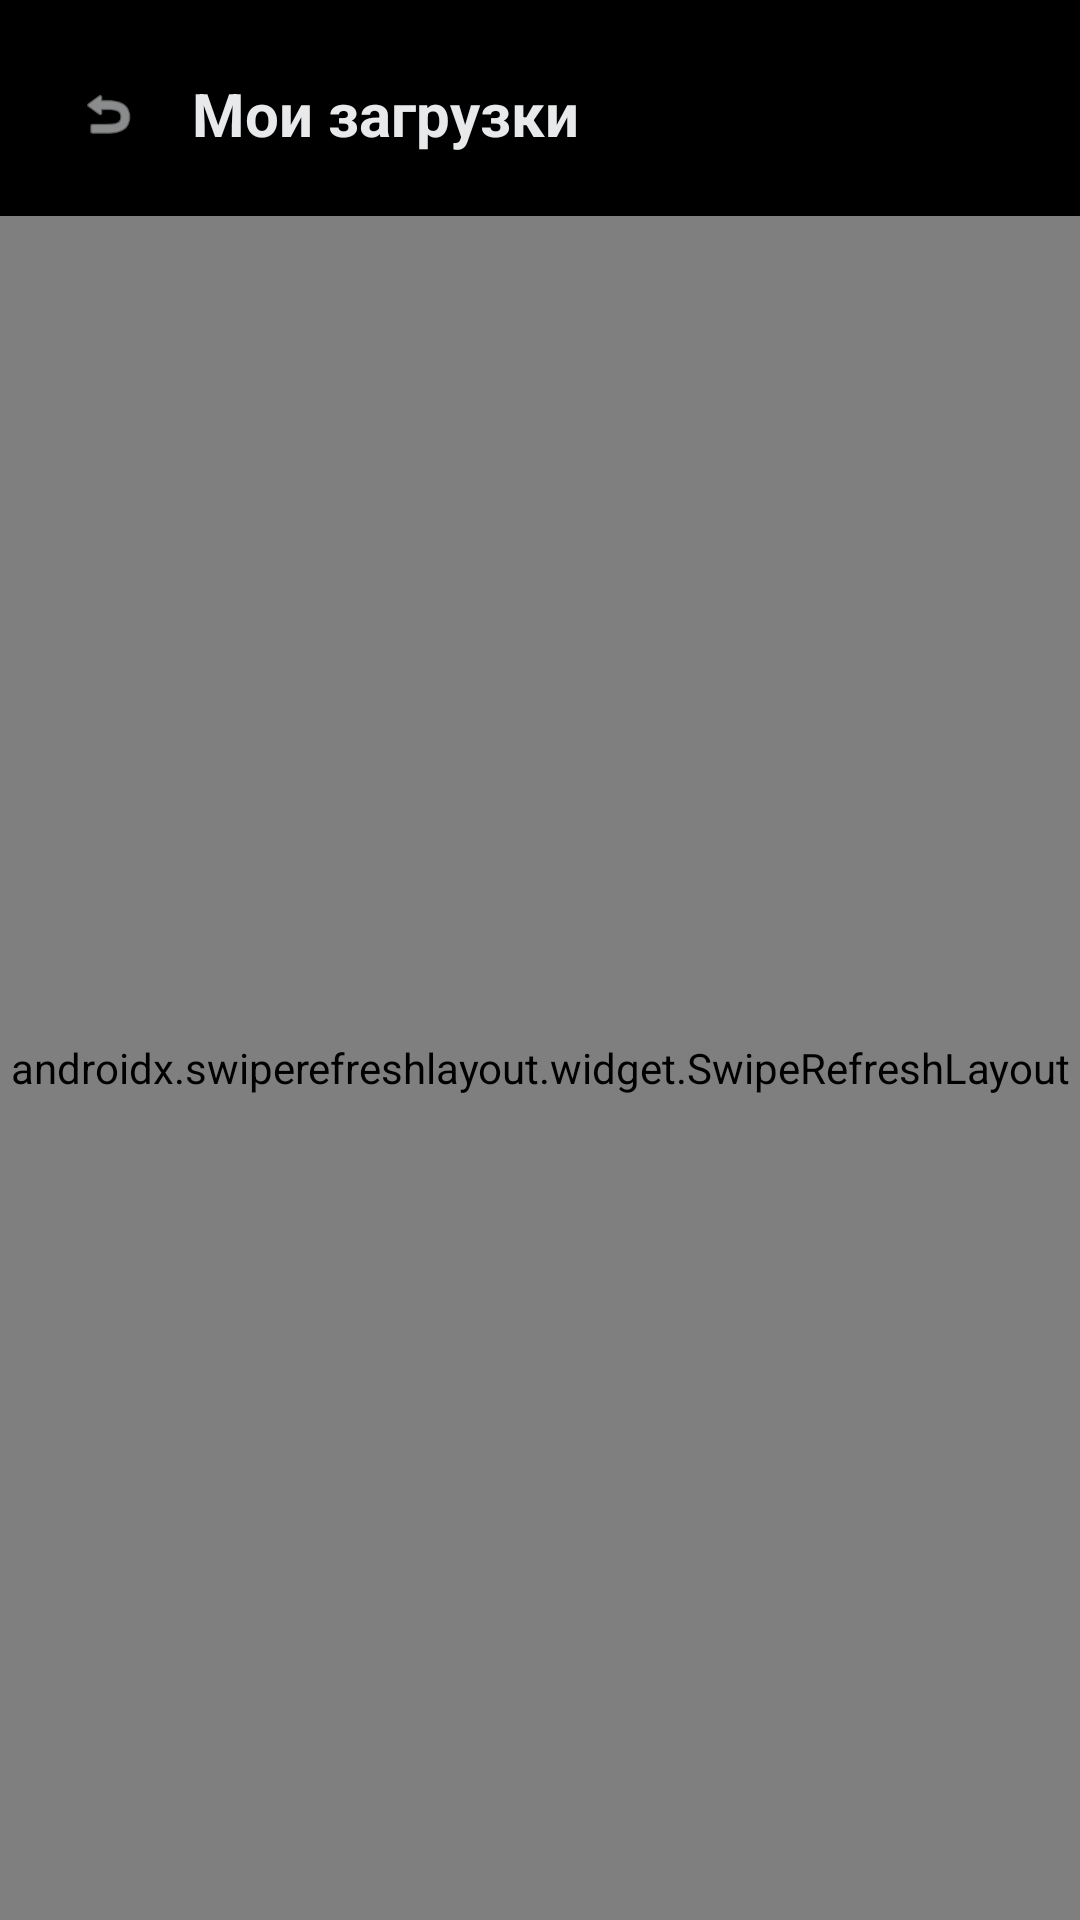

Point at icon controls on the screen. Image size 1080x1920, points as (x,y).
Назад: (108,114)
